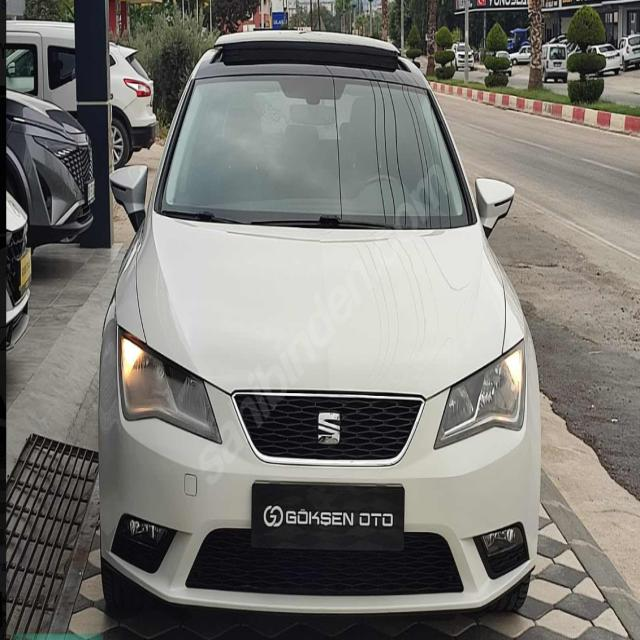seat: (315, 406, 343, 449)
